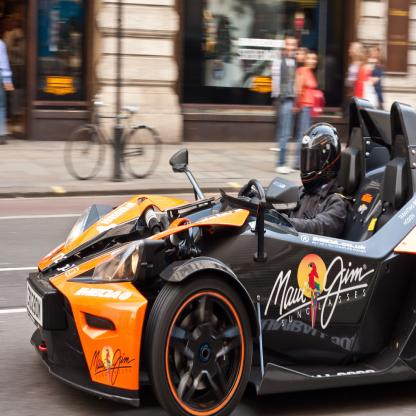Helmet: (304, 124, 350, 193)
